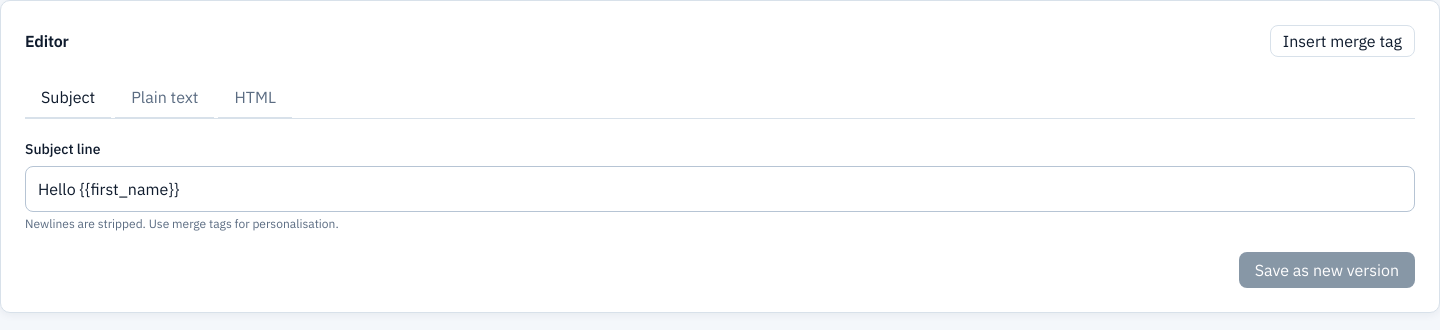
Scenario: TemplateEditor › shows unsaved changes indicator after edit
Replace the text in the field labelled "Subject line" with "Changed" at point(720, 189), box top-left (25, 166), bottom-right (1415, 212)
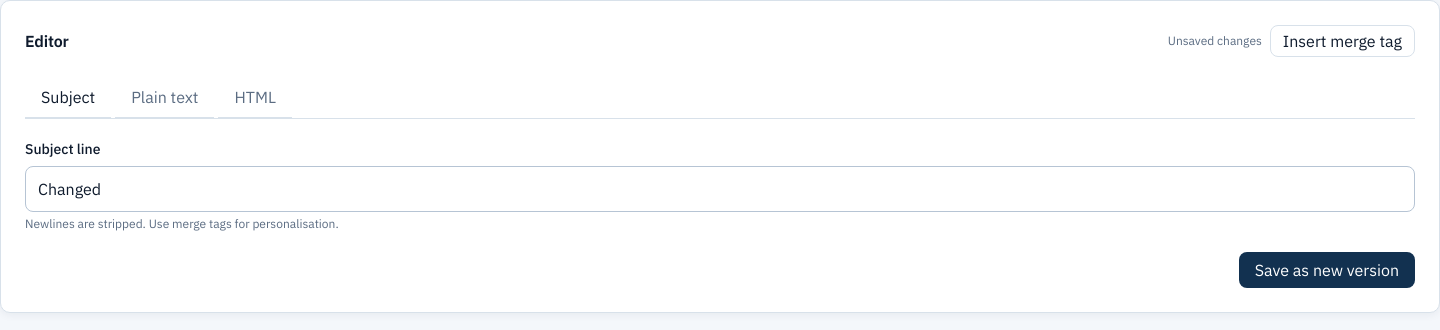
Check: the text "Unsaved changes" is shown, box top-left (1168, 33), bottom-right (1262, 49)
